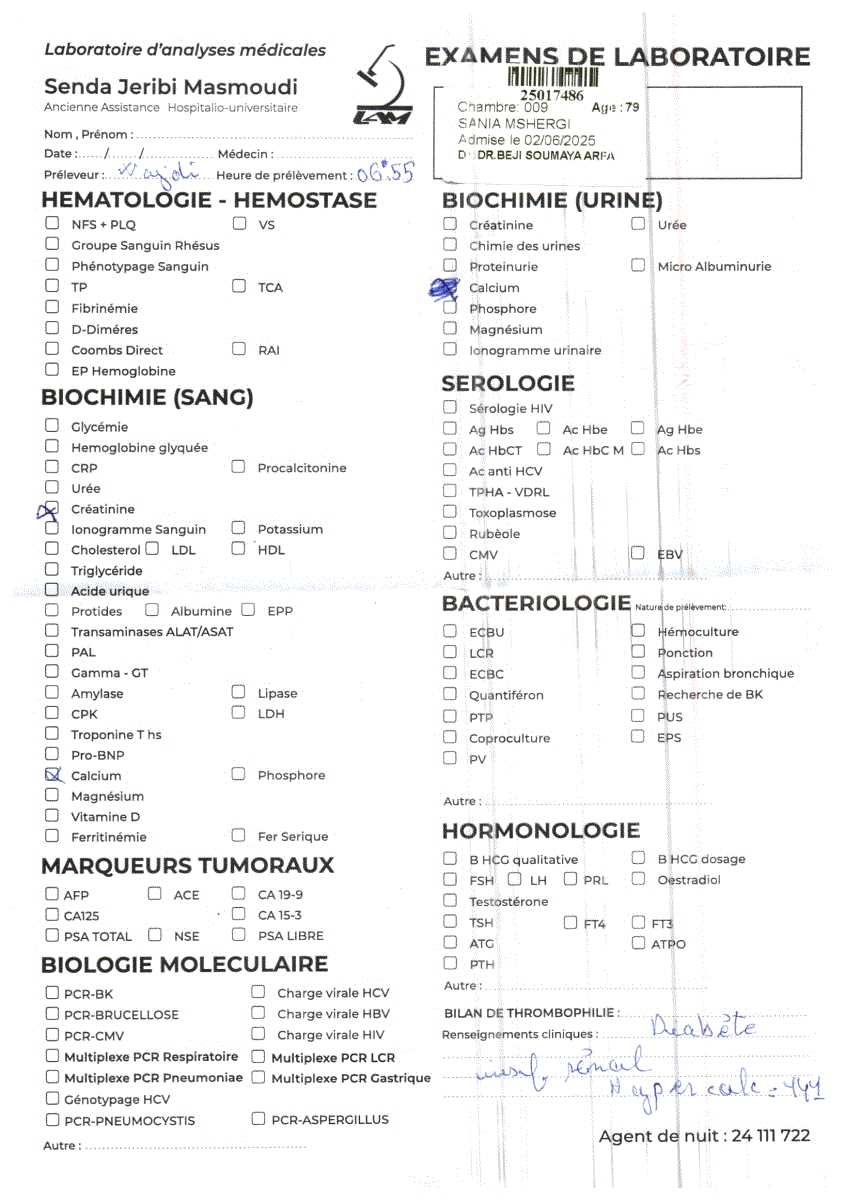zone_analyses: (34, 181, 845, 1180)
zone_date: (522, 133, 604, 145)
zone_patient: (458, 114, 594, 129)
zone_prescripteur: (450, 149, 630, 165)
